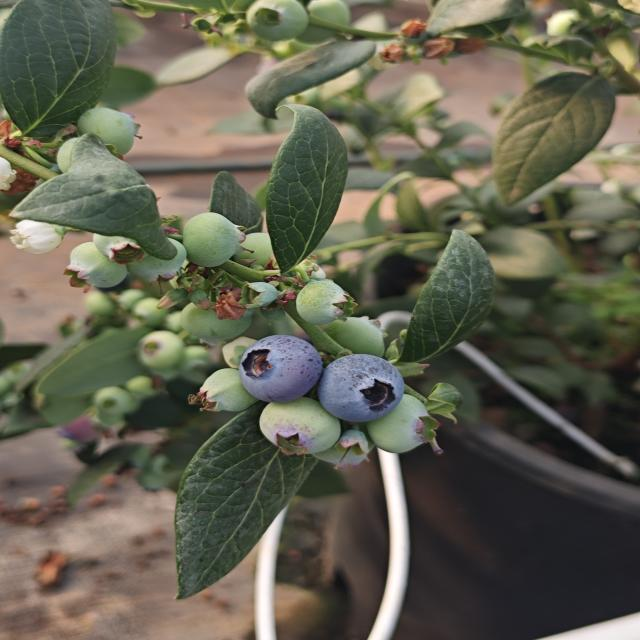ripe: (316, 352, 407, 424), (235, 333, 324, 405), (243, 0, 311, 44)
